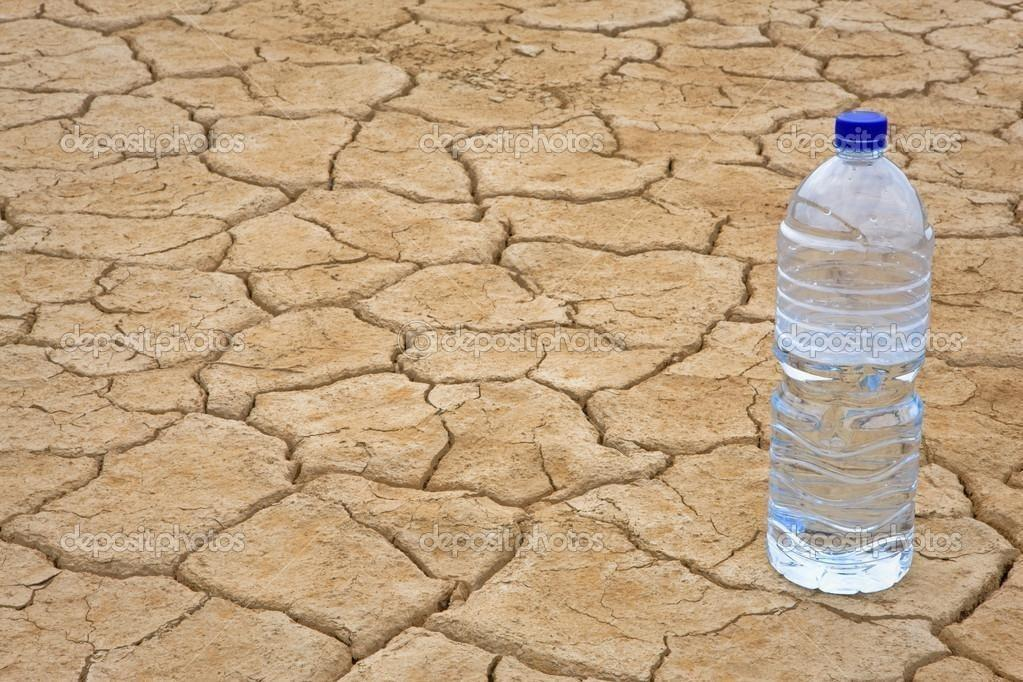bottle-plastic: (766, 107, 933, 600)
